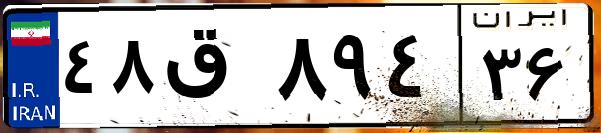3: (475, 38, 525, 113)
4: (385, 28, 445, 110), (57, 26, 110, 100)
6: (525, 38, 570, 115)
8: (270, 28, 330, 110), (110, 28, 158, 98)
9: (330, 28, 385, 110)
ق: (158, 20, 270, 120)
